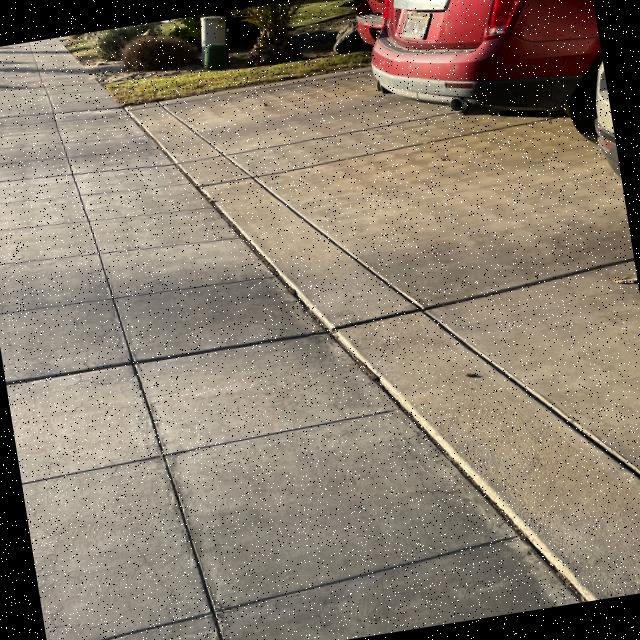walkway: (27, 419, 439, 640), (10, 284, 323, 526), (0, 153, 190, 358), (36, 164, 200, 337), (0, 55, 129, 231)
